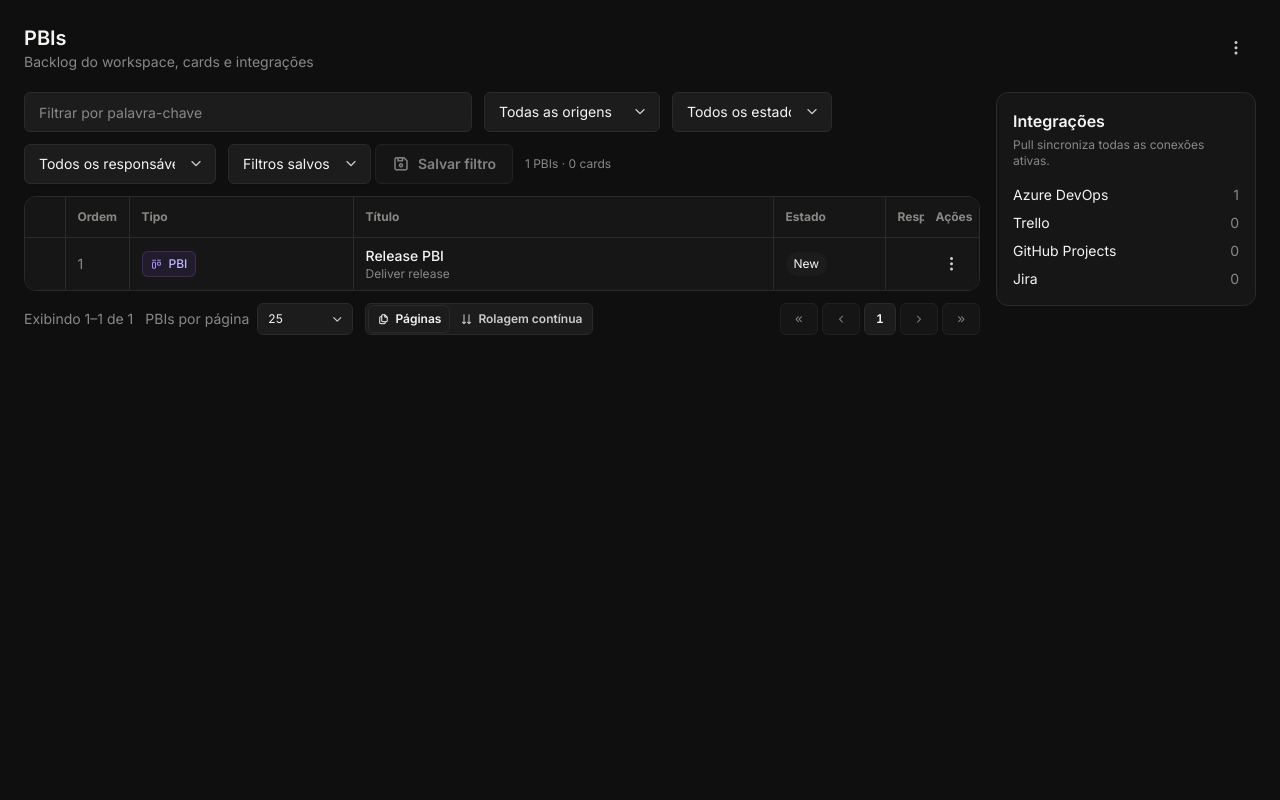
it: PbiView coverage (Vitest 5) › ignores child sync, agent and comment failures after the form closes
Step 1. Click the button "Release PBI" → (405, 256), box [366,246,760,266]
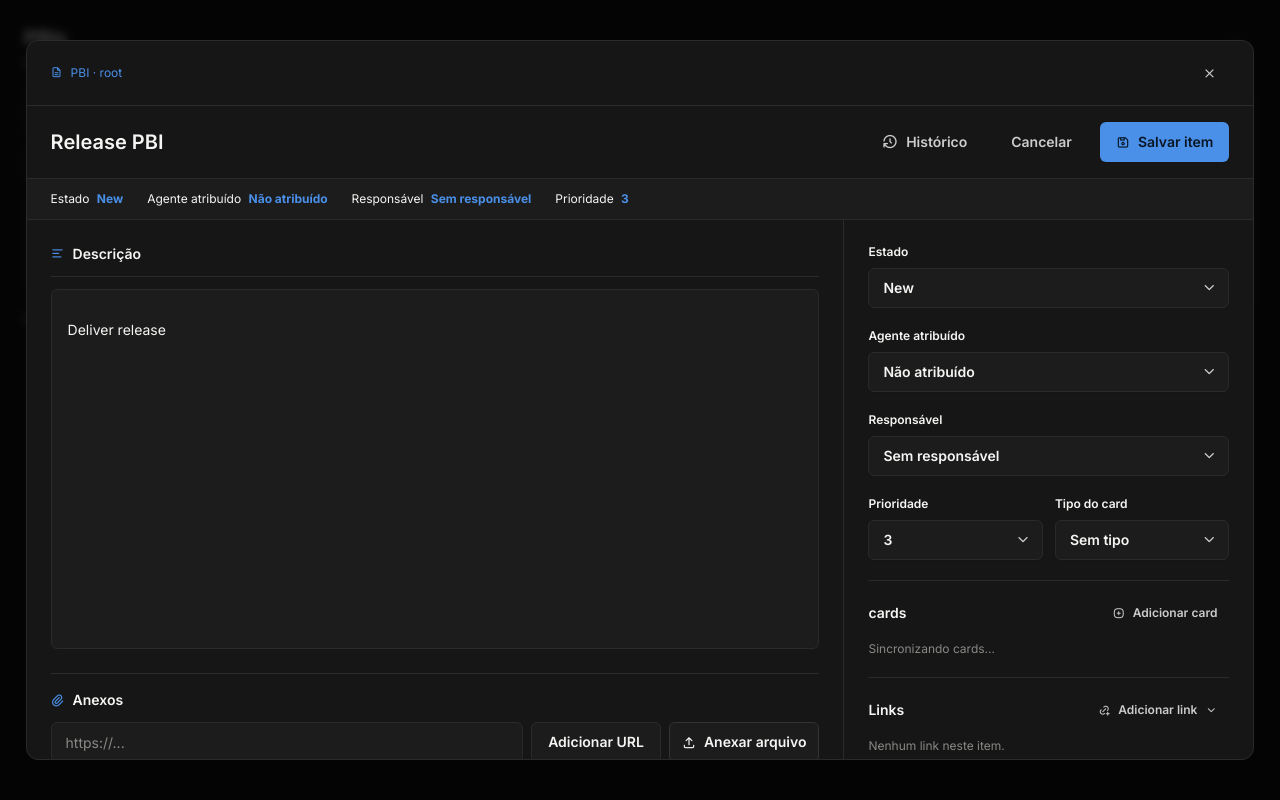
Step 2. Click the button "Cancelar" → (1042, 142), box [995,122,1088,162]
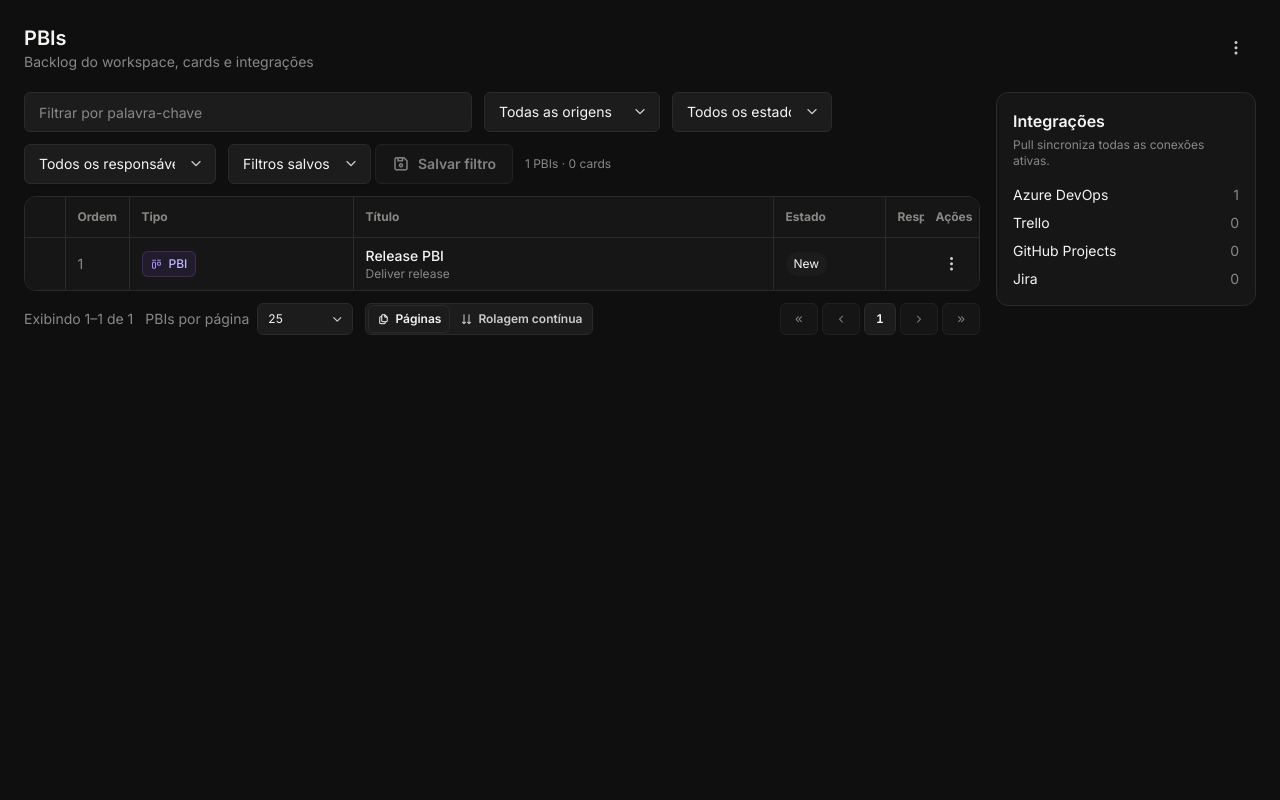
Check: the dialog is gone
Check: the message "Sincronizando cards..." is gone
